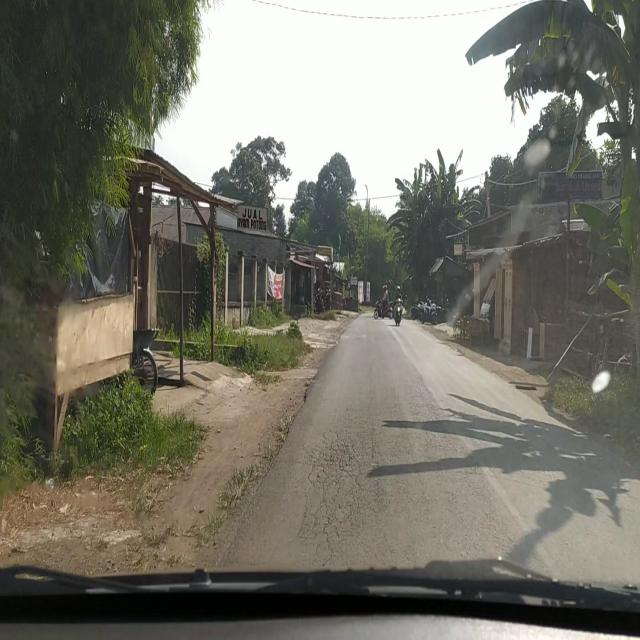Drain Hole: (296, 423, 386, 561)
